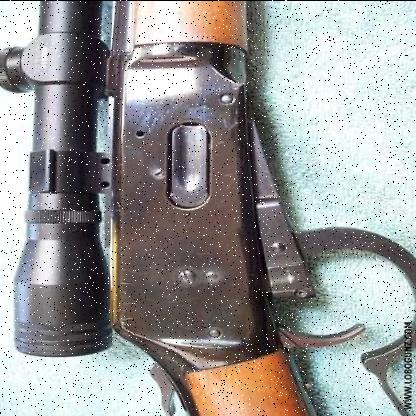rifle: (0, 17, 373, 416)
